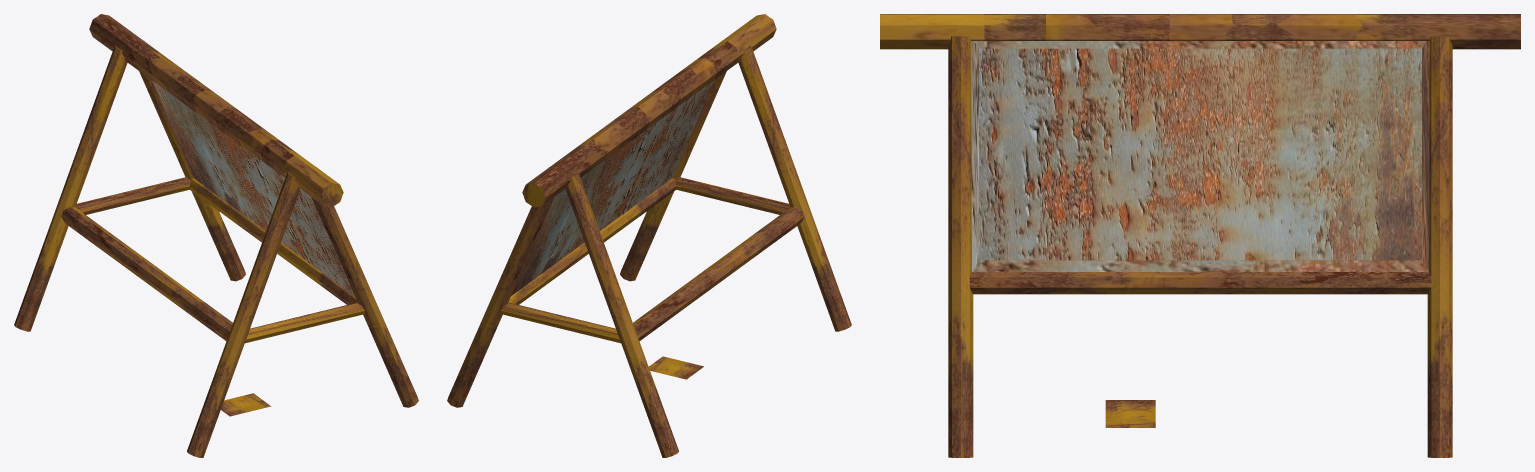
File: barricade.fbx
3 views of the same model, side by side, from view 1: azimuth 30°, elevation 25°; view 2: azimuth 150°, elevation 25°; view 3: azimuth 270°, elevation 25° (orthographic). The views are drawn at different scales.
Visible parts, largest first — view 1: Cylinder.007, Cube.001, Cylinder.005, Cylinder.006, Cylinder.009, barricadeTex; view 2: Cylinder.007, Cube.001, Cylinder.005, Cylinder.006, Cylinder.009, barricadeTex; view 3: Cube.001, Cylinder.007, Cylinder.005, Cylinder.006, barricadeTex.
Boxes of the visible parts, x1,y1,x2,y2 form: Cylinder.007: (14,45,418,457); Cube.001: (152,80,354,295); Cylinder.005: (89,14,343,207); Cylinder.006: (61,178,357,341); Cylinder.009: (75,177,365,343); barricadeTex: (221,393,271,416); Cylinder.007: (447,45,851,457); Cube.001: (511,80,713,295); Cylinder.005: (522,14,776,207); Cylinder.006: (508,178,804,341); Cylinder.009: (500,177,790,343); barricadeTex: (649,356,703,379); Cube.001: (971,41,1429,271); Cylinder.007: (948,36,1452,457); Cylinder.005: (880,14,1520,49); Cylinder.006: (969,272,1431,294); barricadeTex: (1105,400,1155,427).
Size of the model in its own units: 736 by 882 by 1282.
Materials: 2 (2 with a texture image).
